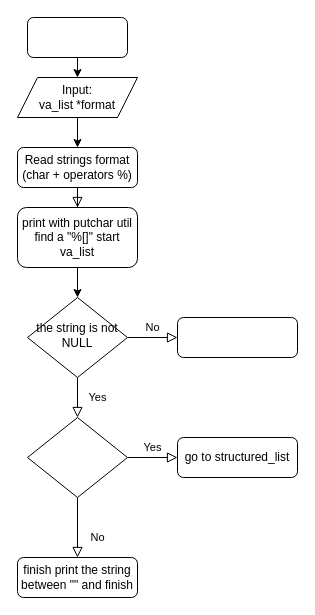
Image size: 315x615. Some labels were removed from this diagram. Here are the shapes that lost their labels. From the top down, the centre of each, then its label:
(x=77, y=37): Start
(x=237, y=337): finalize va_list finish
(x=77, y=457): existi "%[char]"
